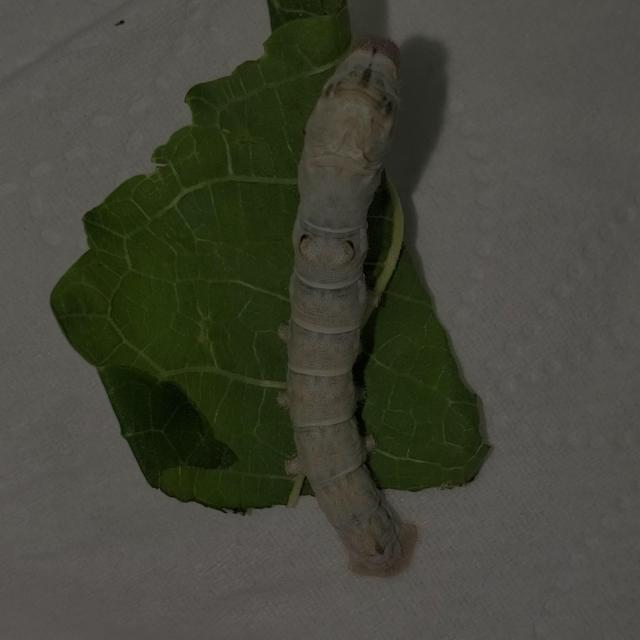Healthy: (260, 30, 428, 581)
